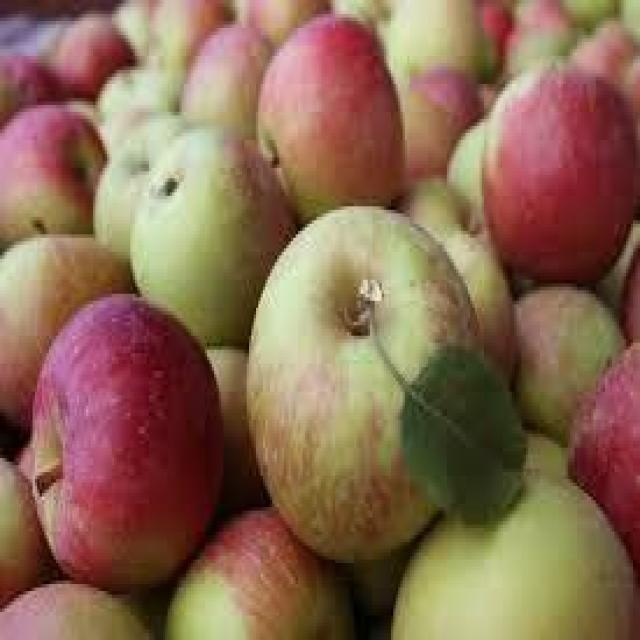Fresh Apple: (260, 213, 498, 560), (33, 298, 210, 554), (254, 20, 408, 222), (142, 142, 278, 338), (495, 79, 627, 264)
